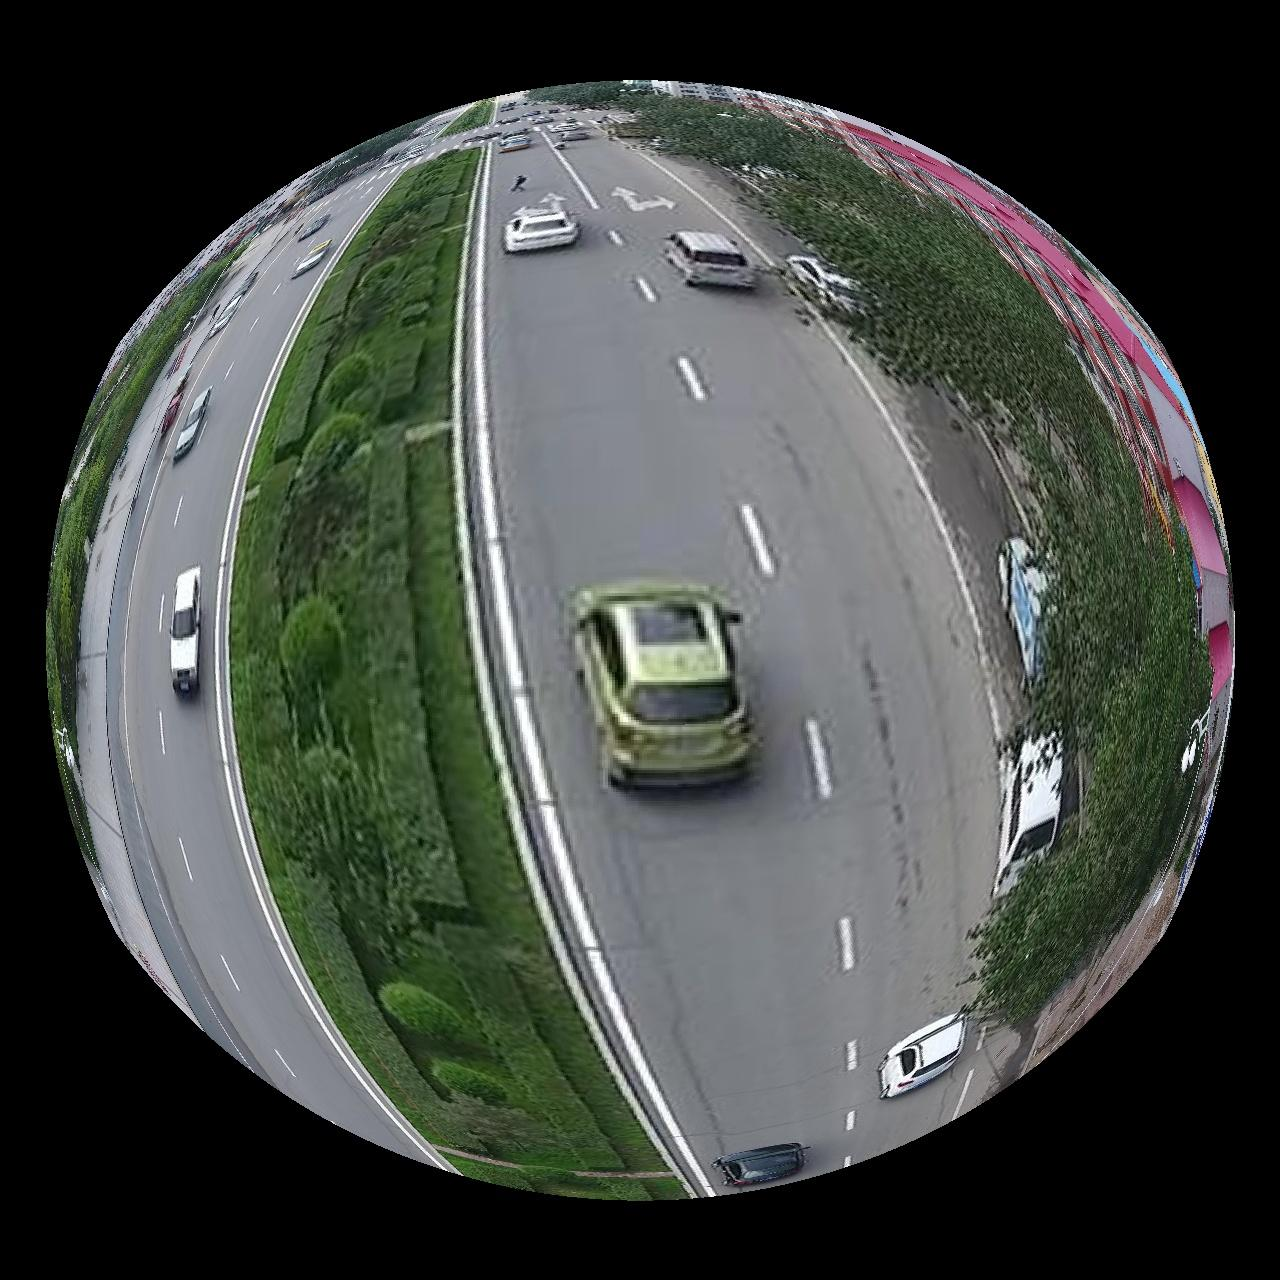cars: (570, 583, 760, 788), (995, 733, 1065, 898), (880, 1014, 971, 1099), (503, 192, 579, 252), (713, 1145, 810, 1189)
trees: (549, 79, 1097, 422), (974, 440, 1233, 1027)
